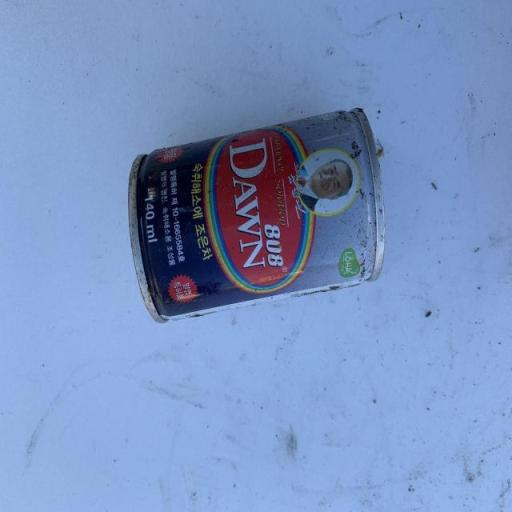metal: (104, 84, 404, 354)
